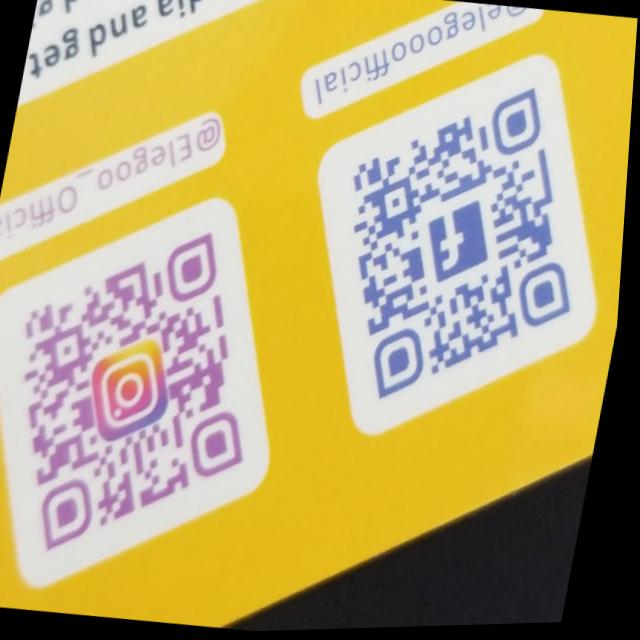QR_CODE: (0, 179, 303, 579), (306, 55, 623, 435)
